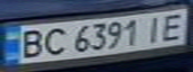1: (121, 17, 145, 46)
3: (90, 20, 112, 52)
6: (69, 21, 93, 54)
9: (106, 19, 127, 49)
B: (12, 27, 48, 60)
C: (36, 25, 69, 56)
E: (157, 10, 190, 42)
I: (139, 12, 169, 43)
